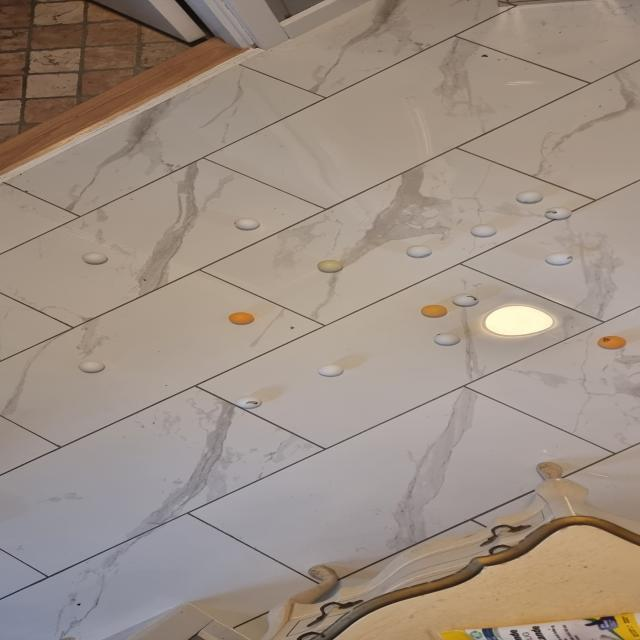orange: (597, 336, 628, 350), (420, 304, 448, 317), (229, 312, 254, 324)
white: (546, 252, 574, 265), (545, 207, 573, 220), (516, 190, 544, 203), (434, 332, 460, 345), (470, 224, 496, 237), (78, 360, 106, 372), (235, 396, 261, 408), (452, 294, 478, 306), (80, 252, 106, 264), (234, 218, 260, 230), (408, 245, 432, 258), (318, 364, 343, 376), (318, 260, 342, 272)
